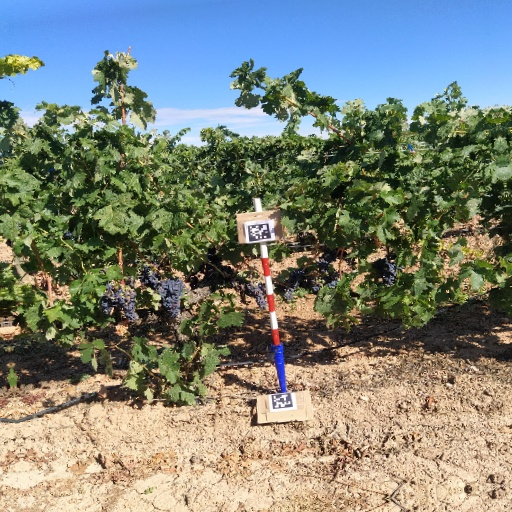QR: (246, 222, 271, 242), (269, 392, 295, 410)
